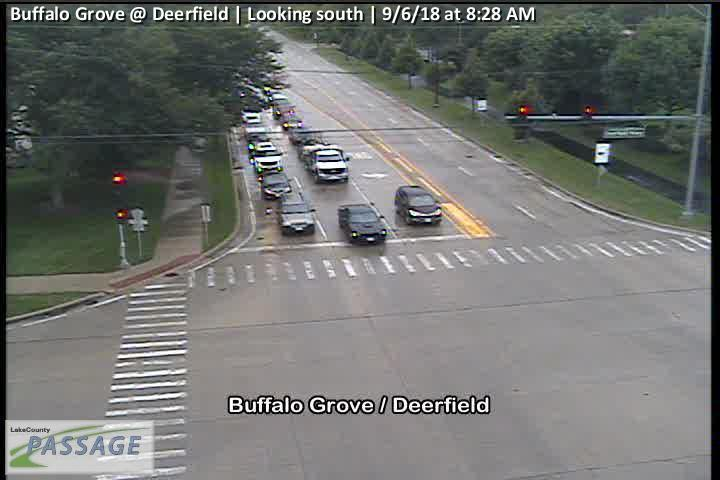Sedan: (338, 203, 387, 245), (395, 185, 442, 226), (276, 192, 316, 237), (250, 142, 281, 172), (259, 173, 290, 200), (240, 107, 262, 125), (278, 114, 300, 128)
Truck: (304, 142, 348, 183), (244, 126, 267, 140)
